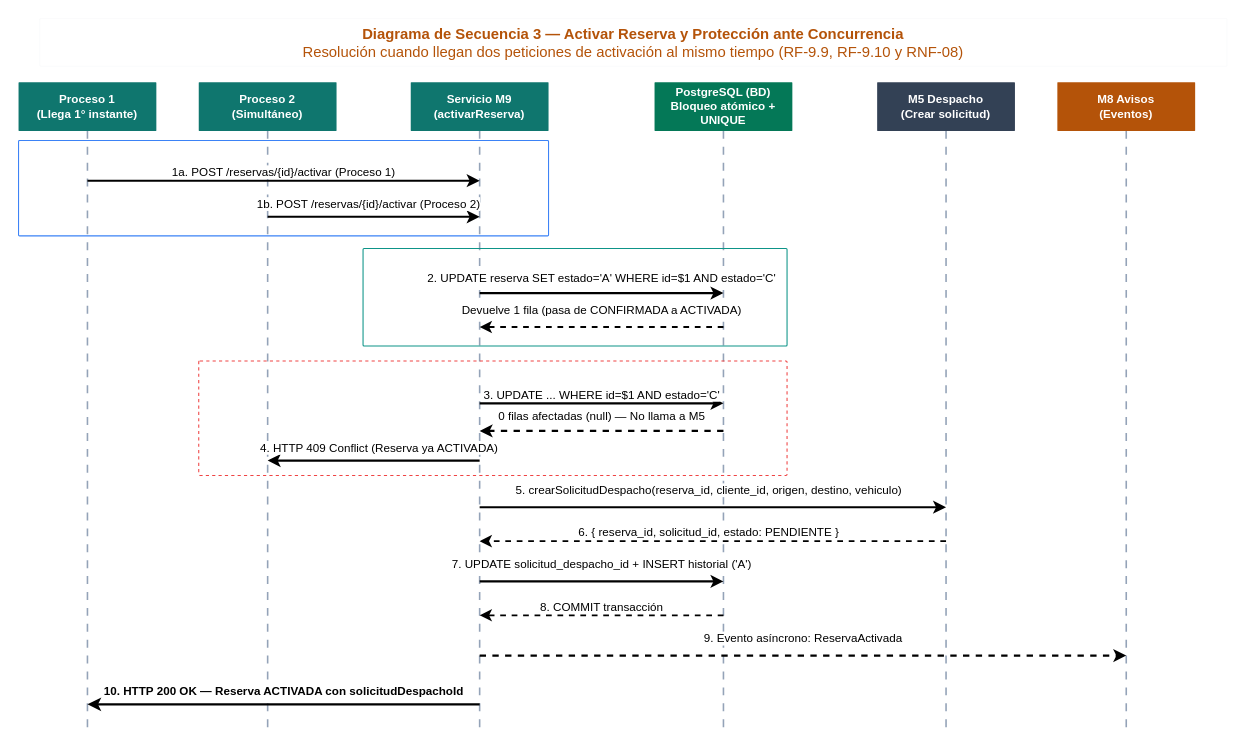
The diagram is 1245 pixels wide and 754 high, and some of its shapes have lost their labels. Each missing label, with the centre of its shape:
BLOQUEO DEL DUPLICADO (Proceso 2 ve que ya no está en estado 'C'): the point at 492,417
LLAMADAS CONCURRENTES AL MISMO TIEMPO (Promise.all): the point at 283,187
OPERACIÓN ATÓMICA GANADORA (Proceso 1): the point at 574,297
